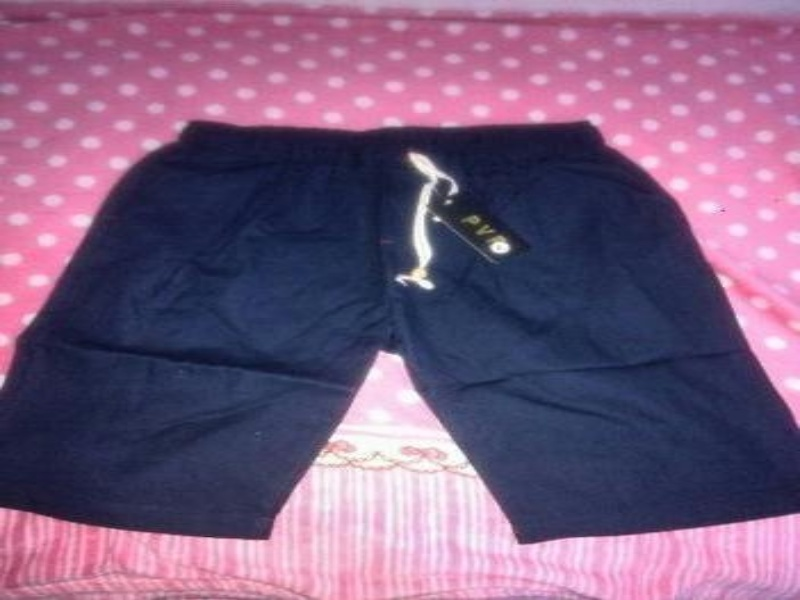shorts: (0, 118, 798, 551)
